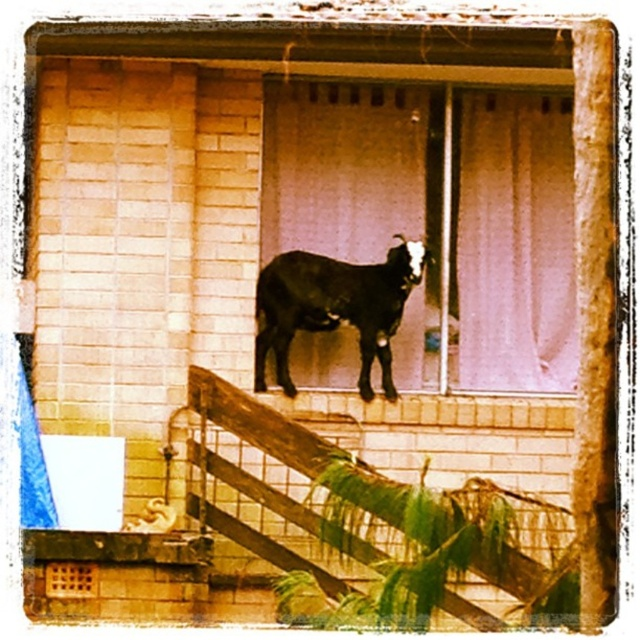Goat: (250, 238, 432, 408)
